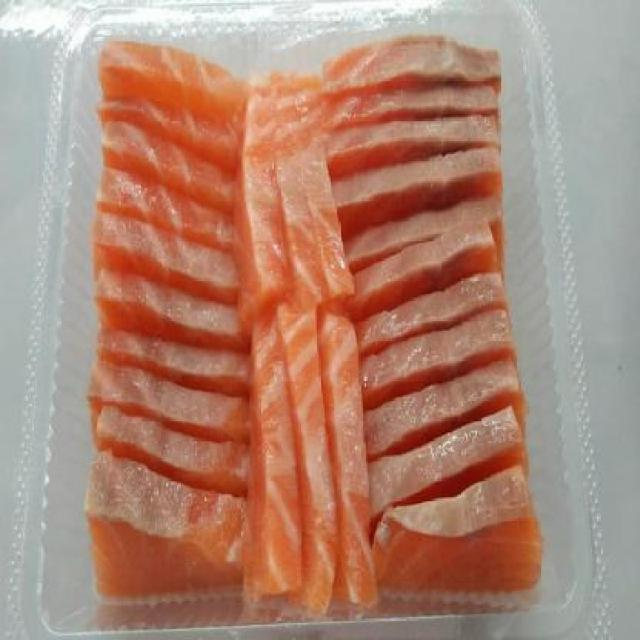salmon: (74, 34, 553, 623)
